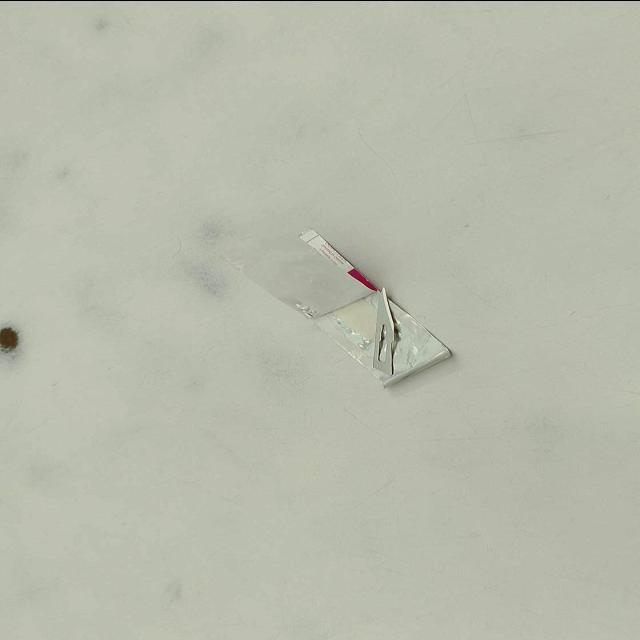General: (3, 2, 635, 636), (221, 225, 455, 388), (313, 286, 454, 386)
Sharps: (296, 226, 399, 374)
